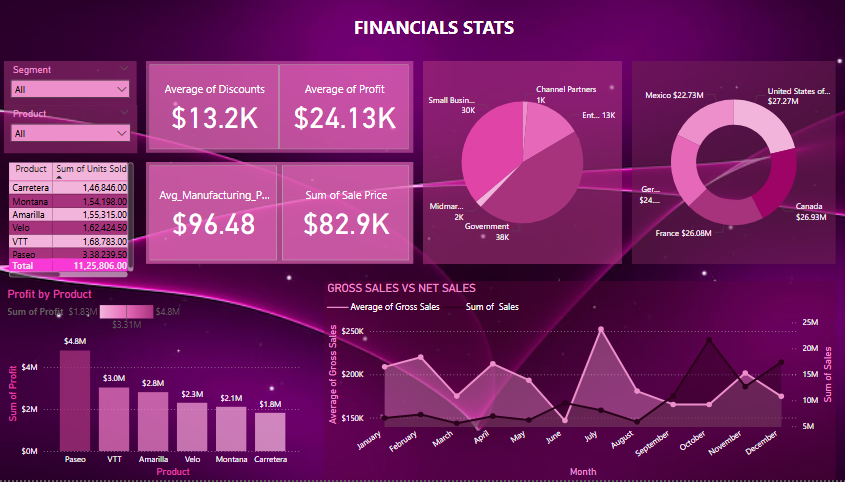

The dashboard page shown, as its layout file describes it:
{"tool":"powerbi","page":{"name":"Page 1","canvas":[1280,720],"ordinal":0},"visuals":[{"type":"textbox","box":[310.8,13.4,692.1,63.8],"z":0},{"type":"donutChart","fields":{"Category":["financials.Country"],"Y":["Sum(financials.Gross Sales)"]},"box":[952.2,94,304.2,263],"z":1000},{"type":"lineChart","title":"GROSS SALES VS NET SALES ","fields":{"Y":["Avg(financials.Gross Sales)"],"Y2":["Sum(financials. Sales)"],"Category":["financials.Date.Variation.Date Hierarchy.Quarter","financials.Date.Variation.Date Hierarchy.Month"]},"box":[502.5,405.6,753.8,314.4],"z":2000},{"type":"slicer","fields":{"Values":["financials.Segment"]},"box":[14.7,110.2,226.3,54.4],"z":4002},{"type":"slicer","fields":{"Values":["financials.Product"]},"box":[14.7,164.6,226.3,66.1],"z":4003},{"type":"cardVisual","fields":{"Data":["Avg(financials.Discounts)","Avg(financials.Profit)"]},"box":[565.7,94,368.8,104.3],"z":4004},{"type":"tableEx","fields":{"Values":["financials.Product","Sum(financials.Units Sold)","Sum(financials.Discounts)","Sum(financials.Profit)"]},"box":[14.7,529,461.4,191],"z":4005}]}

Visuals, with their boxes in screenshot pixels (x1, y1, x2, y2), scaled from the page's 1280x720 canvas onto the 845x482 screenshot:
textbox: left=205, top=9, right=662, bottom=52
donutChart - financials.Country x Sum(financials.Gross Sales): left=629, top=63, right=829, bottom=239
"GROSS SALES VS NET SALES " lineChart: left=332, top=272, right=829, bottom=481
slicer - financials.Segment: left=10, top=74, right=159, bottom=110
slicer - financials.Product: left=10, top=110, right=159, bottom=154
cardVisual - Avg(financials.Discounts) x Avg(financials.Profit): left=373, top=63, right=617, bottom=133
tableEx - financials.Product x Sum(financials.Units Sold): left=10, top=354, right=314, bottom=481
